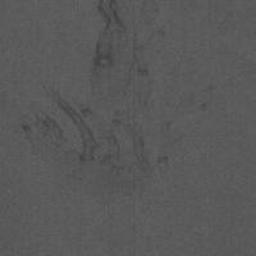Water spot: (13, 0, 221, 223)
